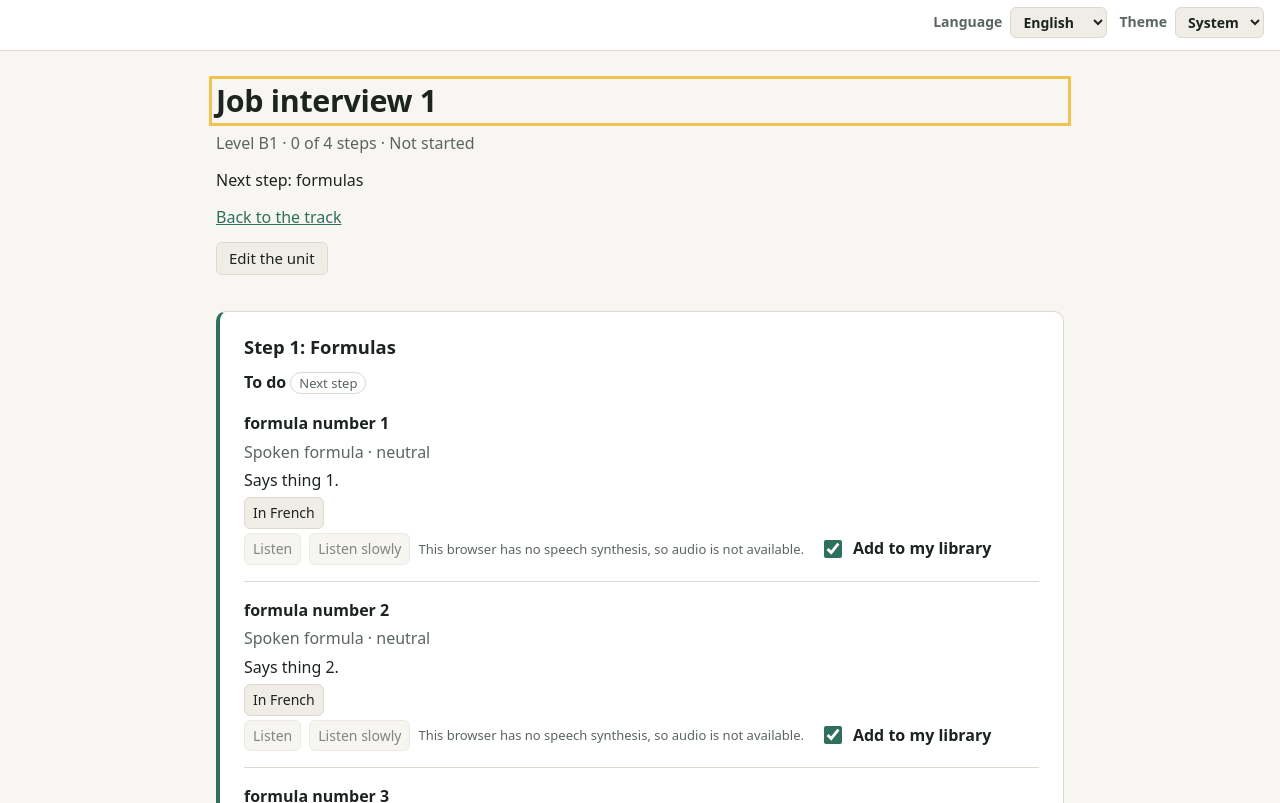
Test: The unit editor › refuses a shadowing line of the wrong length and fewer than three formulas in the task
Click the button "Edit the unit" at (272, 258), box [216, 242, 328, 275]
(page scrolled)
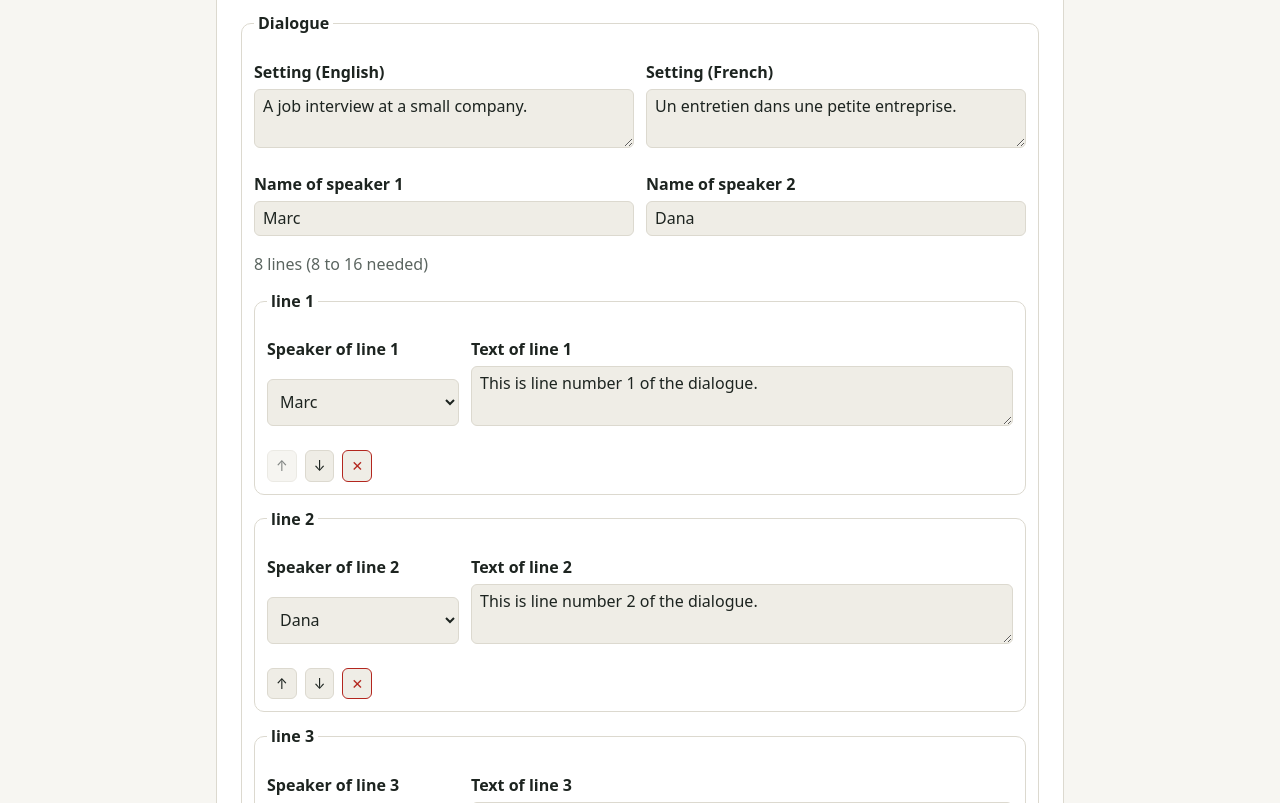
Clear the text box labelled "Text of line 1" at (742, 396), box [471, 366, 1013, 426]
Type keys "Too short."
(page scrolled)
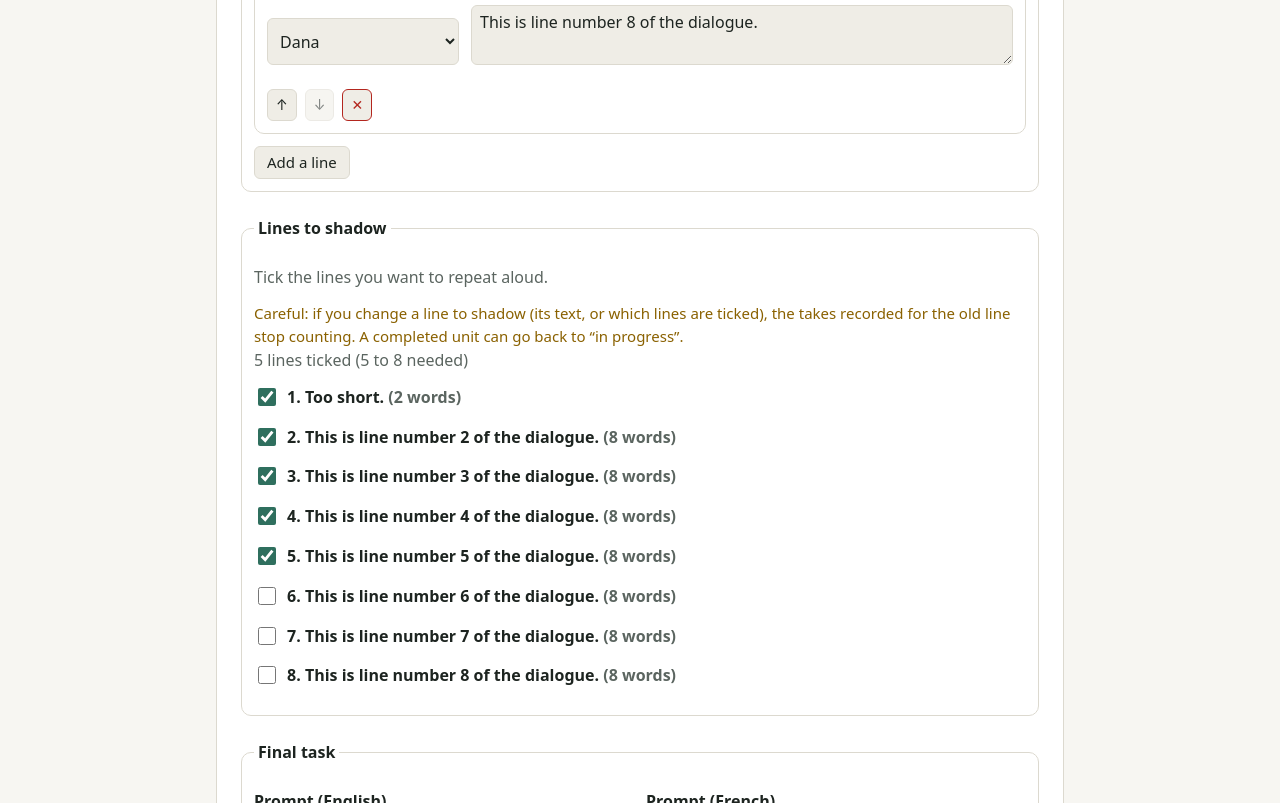
Click the checkbox labelled "1. Too short. (2 words)" at (267, 397), box [258, 388, 276, 406]
(page scrolled)
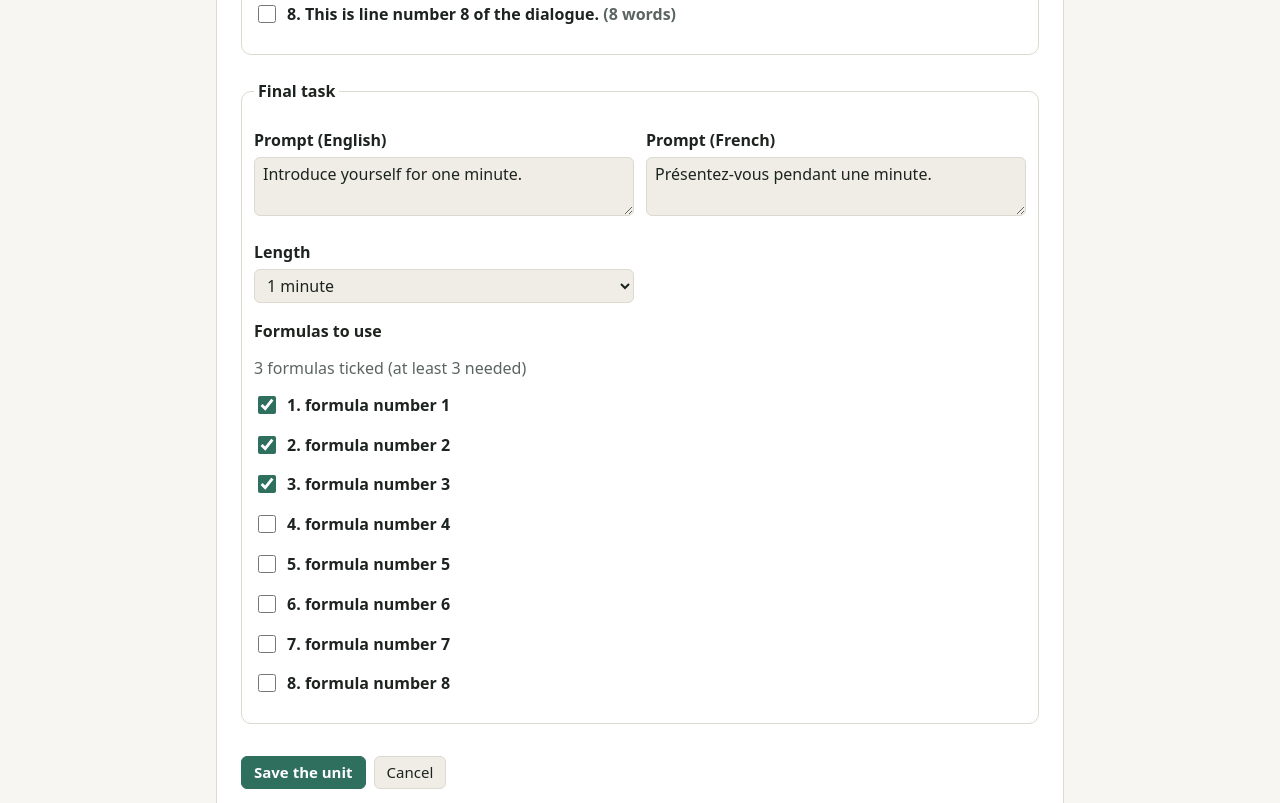
Click the checkbox labelled "1. formula number 1" at (267, 405), box [258, 396, 276, 414]
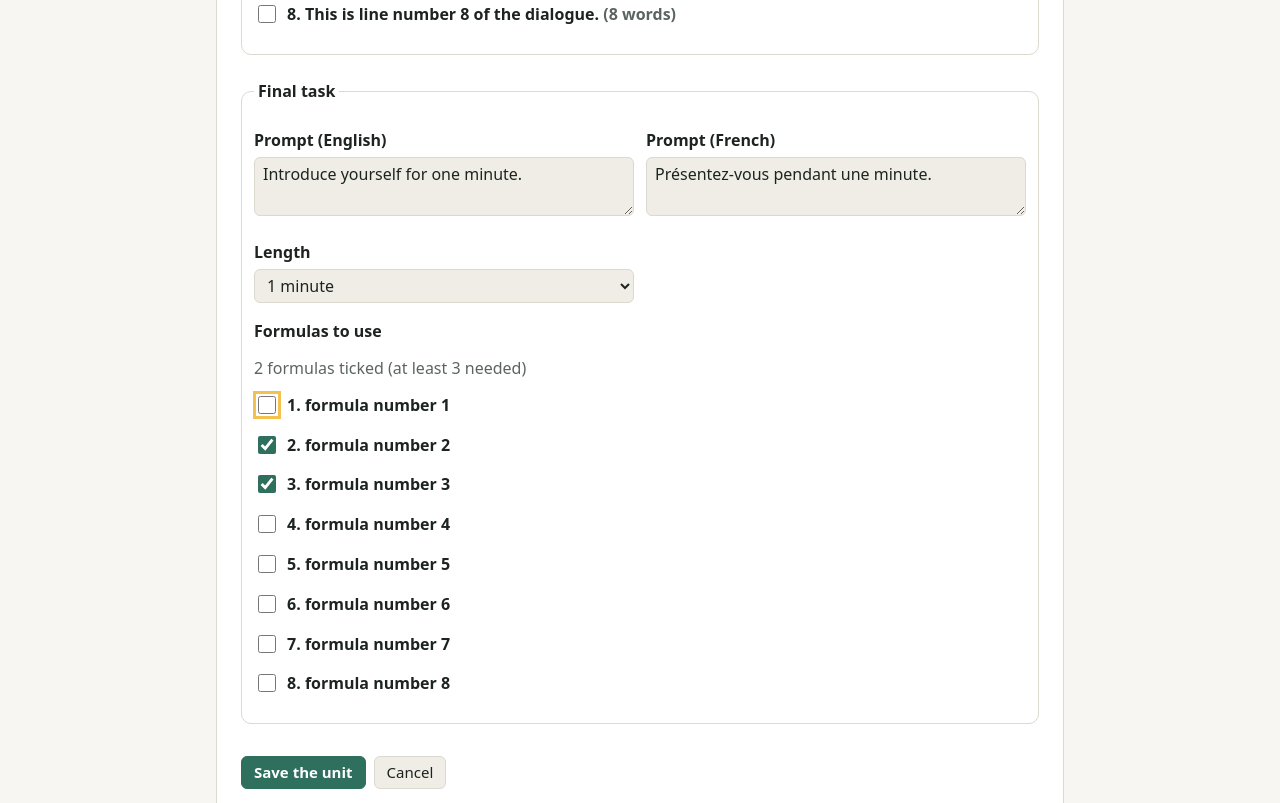
Click the checkbox labelled "2. formula number 2" at (267, 445), box [258, 436, 276, 454]
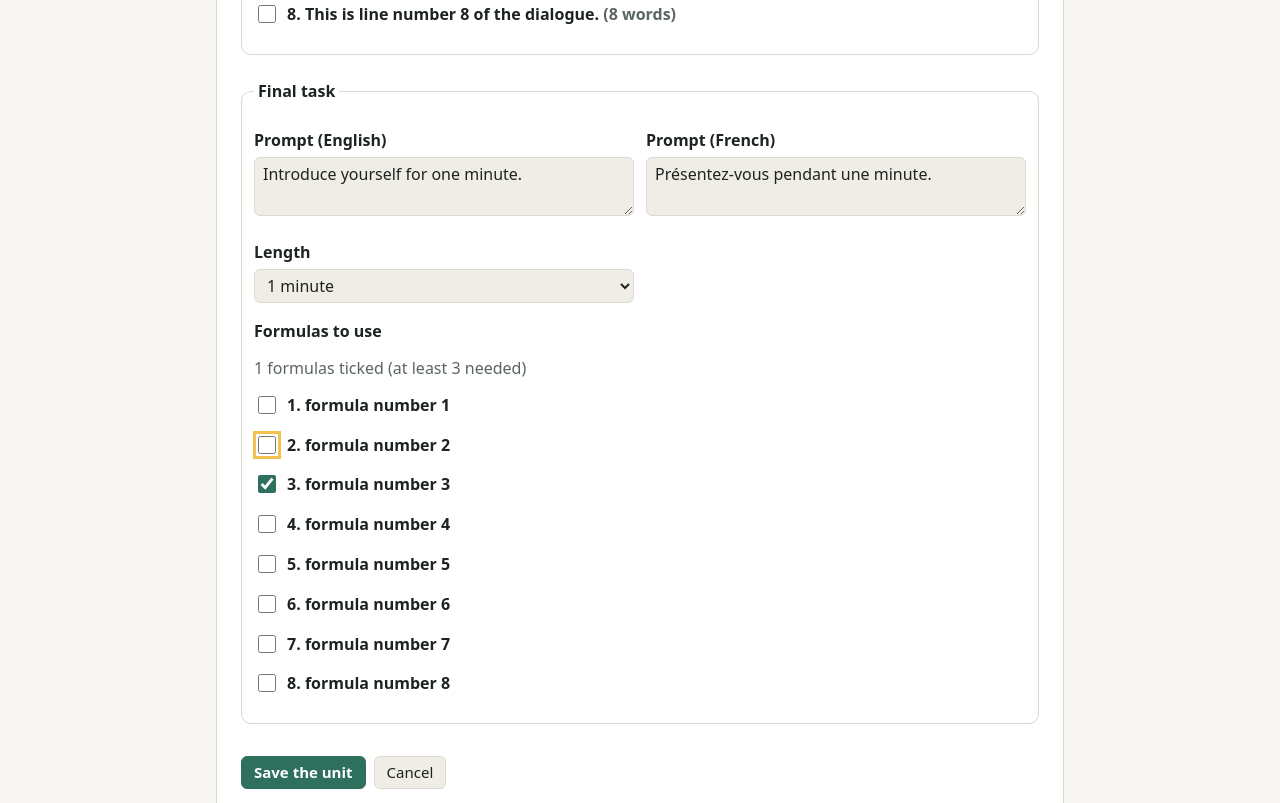
Click the button "Save the unit" at (303, 773), box [241, 756, 366, 790]
(page scrolled)
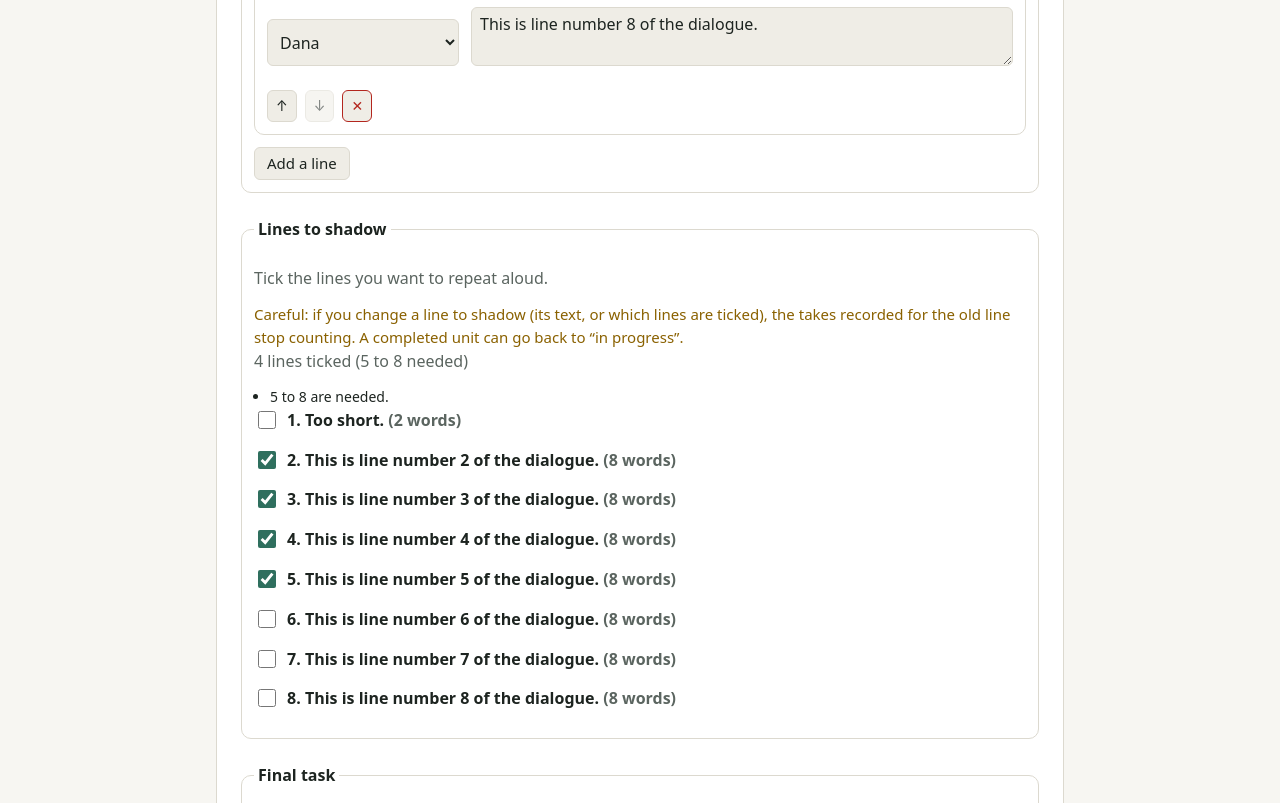
Expected: the list item "5 to 8 are needed." is shown, [270, 387, 389, 406]
